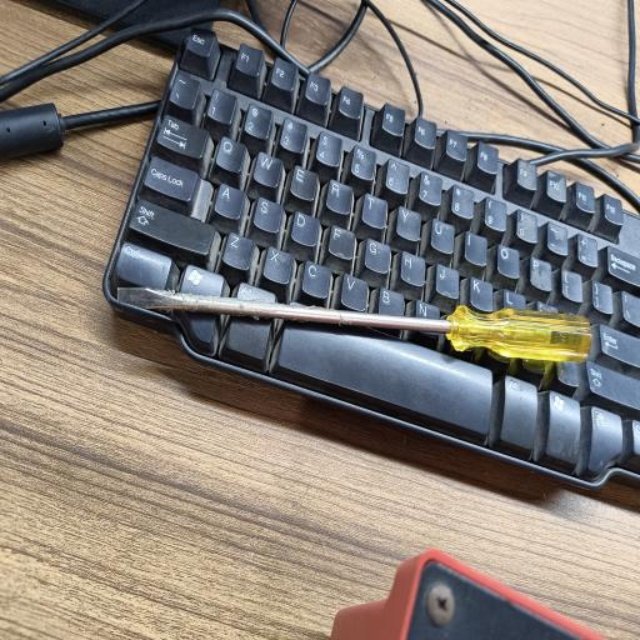screwdriver: (116, 286, 591, 363)
